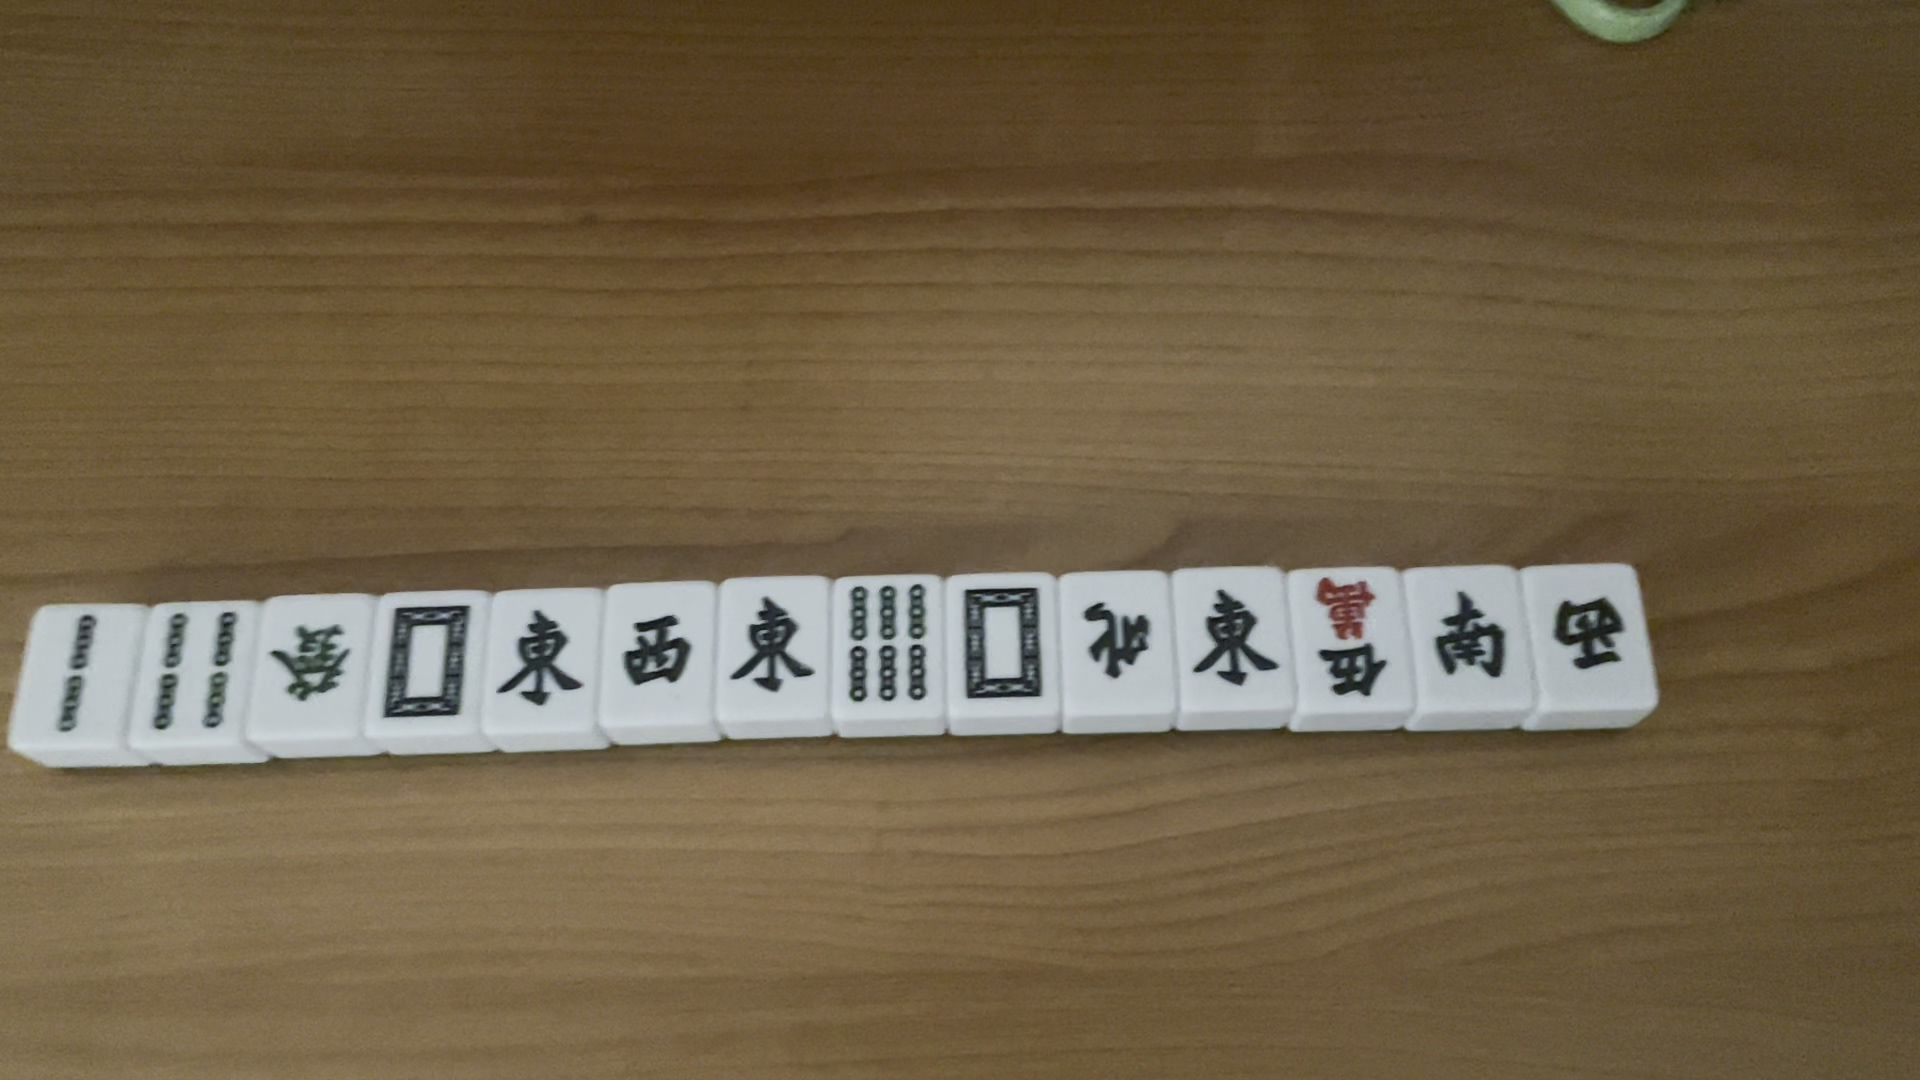b-2: (38, 608, 109, 738)
b-4: (144, 611, 243, 735)
b-6: (839, 579, 928, 709)
c-5: (1302, 575, 1396, 709)
honors-east: (720, 591, 819, 709), (493, 608, 589, 713), (1189, 585, 1283, 694)
honors-green: (262, 618, 364, 715)
honors-north: (1069, 596, 1156, 686)
honors-south: (1423, 585, 1513, 686)
honors-west: (1549, 592, 1636, 682), (611, 609, 700, 692)
honors-white: (378, 599, 473, 725), (955, 583, 1047, 709)
